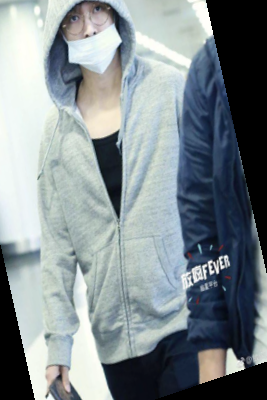mask_weared_incorrect: (32, 1, 149, 80)
